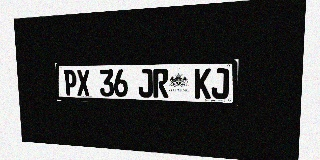3: (100, 69, 114, 97)
6: (114, 69, 128, 97)
J: (211, 68, 229, 99), (138, 69, 153, 97)
K: (194, 68, 211, 99)
P: (64, 70, 77, 96)
R: (153, 69, 168, 98)
X: (76, 70, 90, 96)
